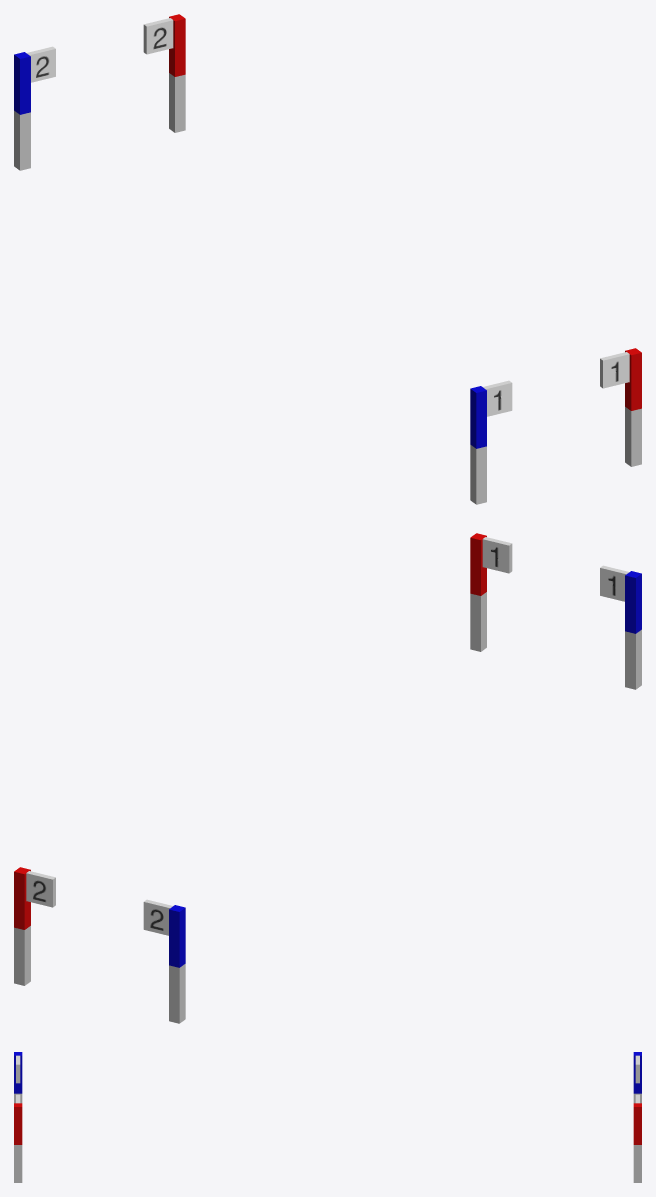
The model's file is R4_flag.dae.
3 views of the same model, one above another, from view 1: azimuth 30°, elevation 25°; view 2: azimuth 150°, elevation 25°; view 3: azimuth 270°, elevation 25° (orthographic). The views are drawn at different scales.
Parts seen in each view (by area): view 1: Group5; view 2: Group5; view 3: Group5.
Boxes of the visible parts, box(x1,y1,x2,y2) form: Group5: box(14, 14, 641, 504); Group5: box(14, 533, 641, 1023); Group5: box(14, 1052, 641, 1182).
Size of the model in its own units: 3.1 by 15 by 2.
